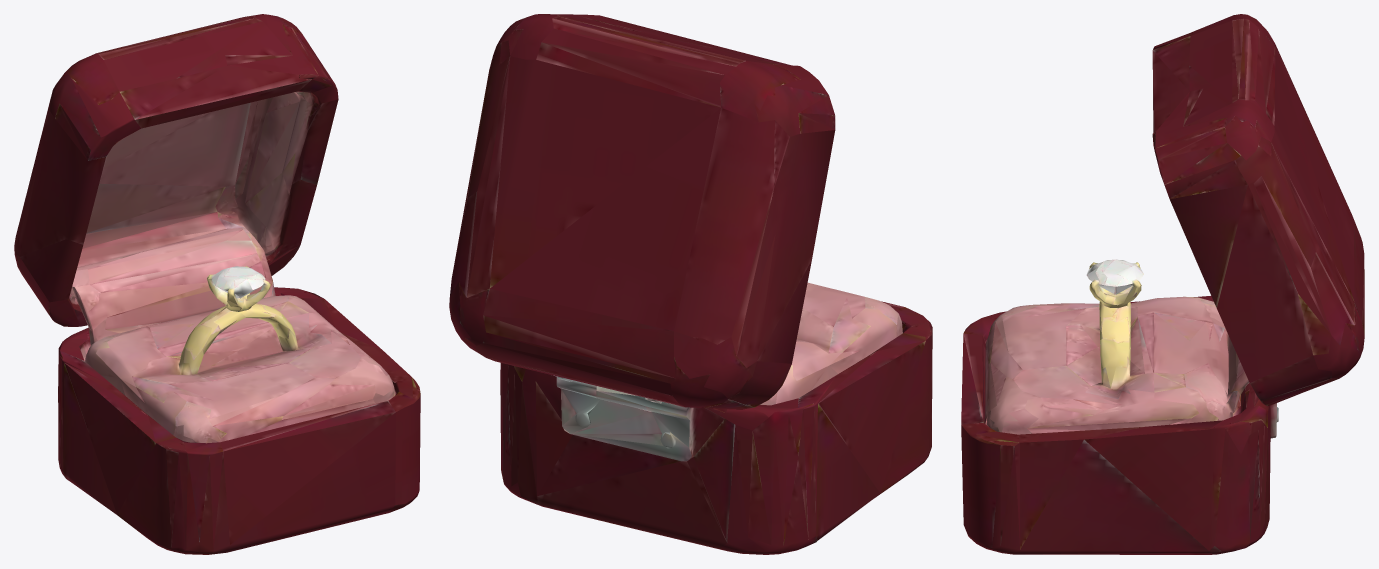
Rendered from Ring.glb.
3 renders of one model, left to right at view 1: azimuth 30°, elevation 25°; view 2: azimuth 150°, elevation 25°; view 3: azimuth 270°, elevation 25°, orthographic. The views are drawn at different scales.
Visible parts, largest first — view 1: Mesh_0; view 2: Mesh_0; view 3: Mesh_0.
Boxes of the visible parts, x1,y1,x2,y2 form: Mesh_0: (14, 14, 420, 554); Mesh_0: (449, 14, 932, 554); Mesh_0: (961, 14, 1364, 554).
Bounding box in the file's own units: 1.27 × 1.9 × 1.61.
1 material, 1 textured.
